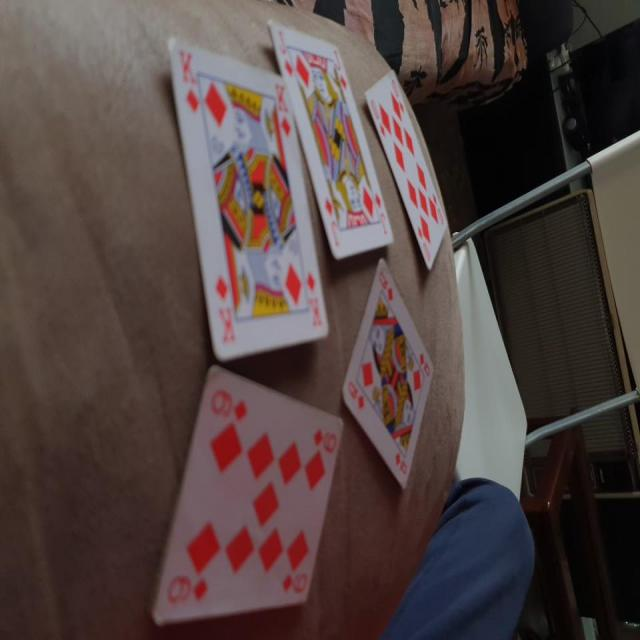10 Diamonds: (364, 66, 449, 269)
9 Diamonds: (146, 368, 344, 621)
J Diamonds: (266, 17, 395, 260)
K Diamonds: (166, 34, 330, 361)
Q Diamonds: (337, 257, 438, 491)
